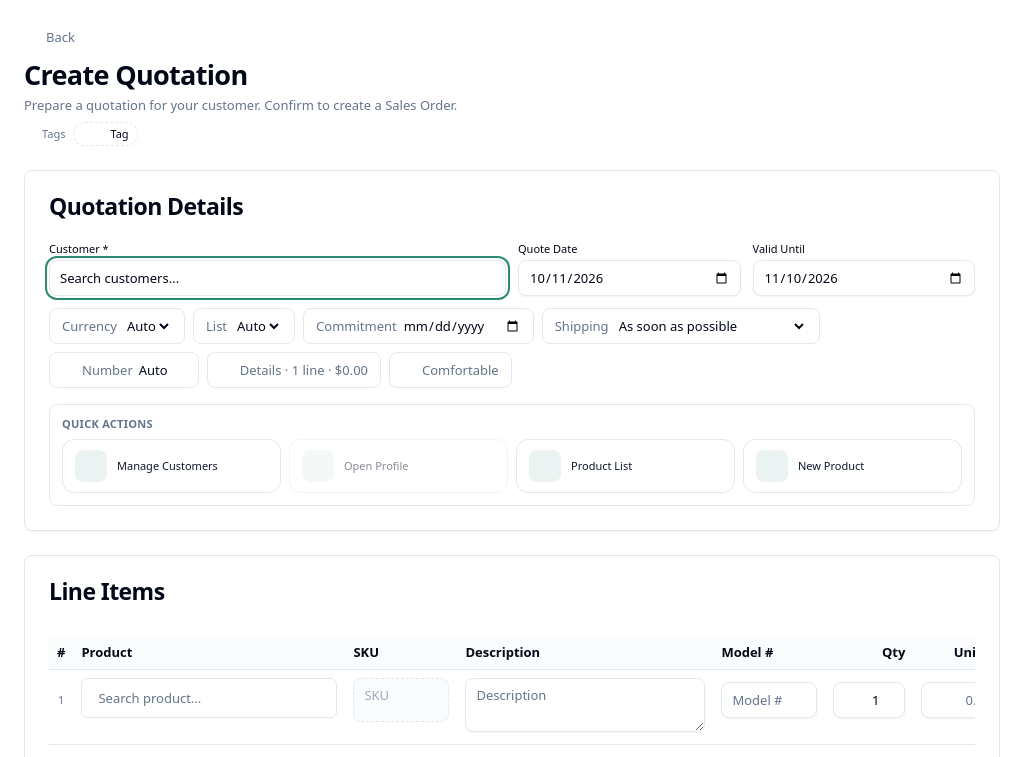
Test: #316 quotation form — Case Information follows the field profile › create: shows Case information for a Medical tenant
This screenshot has width=1024, height=757.
Click the button titled "References, contacts, addresses, logistics and terms" at (294,370), box [207,352,381,388]
(page scrolled)
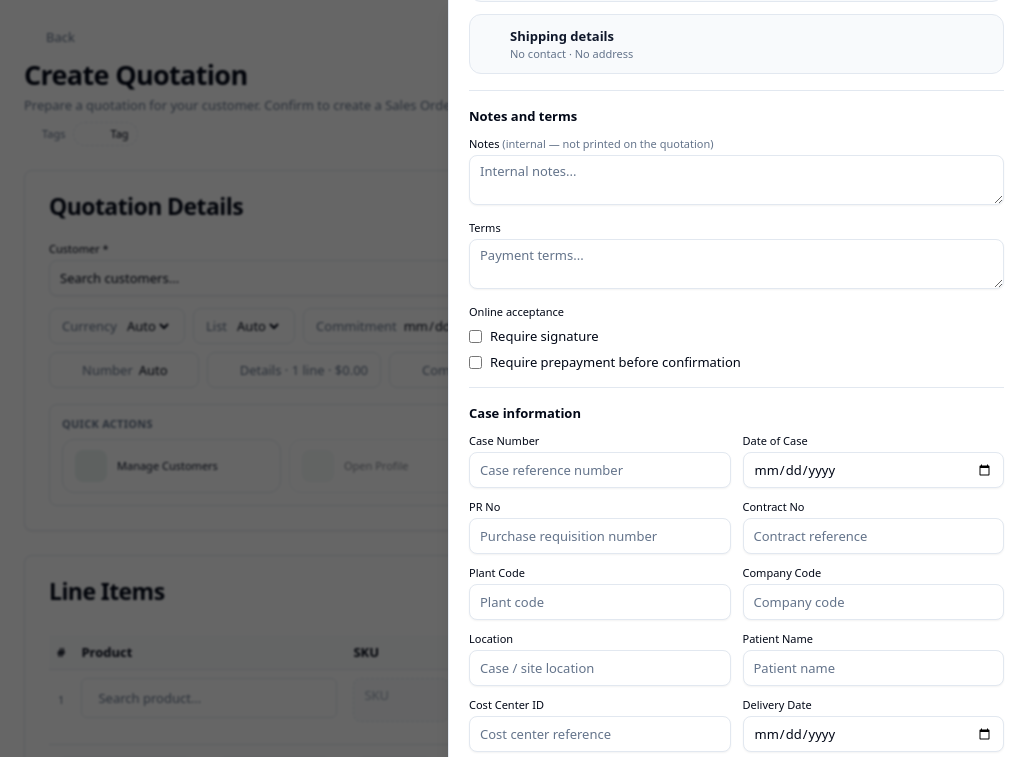
Result: the text box with placeholder "Internal notes..." is shown at [469,155,1004,205]
Result: the heading "Case information" is shown at [469,404,581,422]
